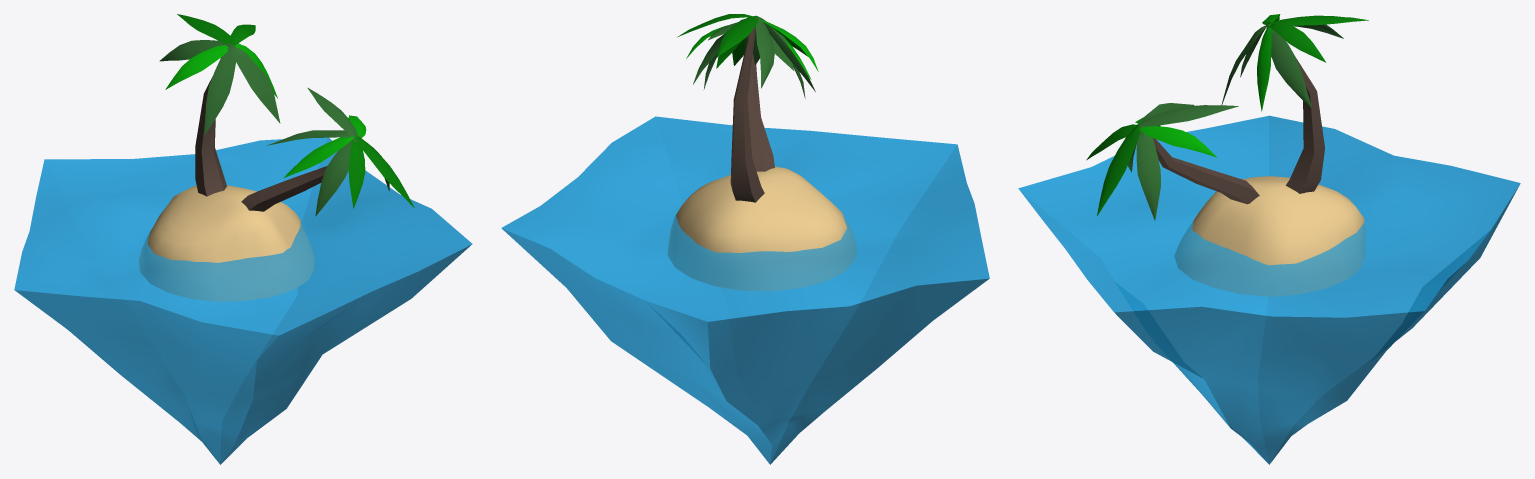
Rendered from uploads_files_737265_1.fbx.
3 renders of one model, left to right at view 1: azimuth 30°, elevation 25°; view 2: azimuth 150°, elevation 25°; view 3: azimuth 270°, elevation 25°, orthographic. The views are drawn at different scales.
Parts seen in each view (by area): view 1: pPyramid1, pSphere1, pCylinder1, tree_2:pCylinder1, pPlane2, pPlane6, tree_2:pPlane1, pPlane7, tree_2:pPlane8, tree_2:pPlane5, tree_2:pPlane4, pPlane3 (+3 smaller); view 2: pPyramid1, pSphere1, pCylinder1, tree_2:pCylinder1, pPlane3, pPlane4; view 3: pPyramid1, pSphere1, pCylinder1, tree_2:pCylinder1, tree_2:pPlane3, pPlane1, tree_2:pPlane4, tree_2:pPlane2, tree_2:pPlane7, pPlane8, pPlane5, pPlane4.
Part boxes in pixels (box(x1,y1,x2,y2)): pPyramid1: box(14, 137, 472, 464); pSphere1: box(139, 185, 314, 301); pCylinder1: box(195, 76, 226, 196); tree_2:pCylinder1: box(241, 166, 327, 211); pPlane2: box(204, 44, 235, 135); pPlane6: box(231, 47, 280, 123); tree_2:pPlane1: box(315, 138, 357, 216); pPlane7: box(165, 45, 228, 89); tree_2:pPlane8: box(283, 136, 354, 178); tree_2:pPlane5: box(348, 140, 365, 208); tree_2:pPlane4: box(355, 136, 414, 207); pPlane3: box(159, 40, 230, 61); pPyramid1: box(501, 116, 989, 464); pSphere1: box(668, 166, 856, 290); pCylinder1: box(730, 26, 764, 202); tree_2:pCylinder1: box(746, 35, 774, 171); pPlane3: box(755, 17, 774, 88); pPlane4: box(717, 15, 758, 56); pPyramid1: box(1018, 115, 1520, 464); pSphere1: box(1174, 176, 1365, 296); pCylinder1: box(1286, 58, 1324, 193); tree_2:pCylinder1: box(1152, 138, 1259, 204); tree_2:pPlane3: box(1136, 126, 1160, 220); pPlane1: box(1266, 23, 1311, 108); tree_2:pPlane4: box(1097, 123, 1140, 215); tree_2:pPlane2: box(1138, 105, 1238, 126); tree_2:pPlane7: box(1140, 126, 1216, 157); pPlane8: box(1257, 26, 1271, 111); pPlane5: box(1269, 22, 1325, 62); pPlane4: box(1267, 15, 1368, 25).
Size of the model in its own units: 36.93 by 38.58 by 38.83.
